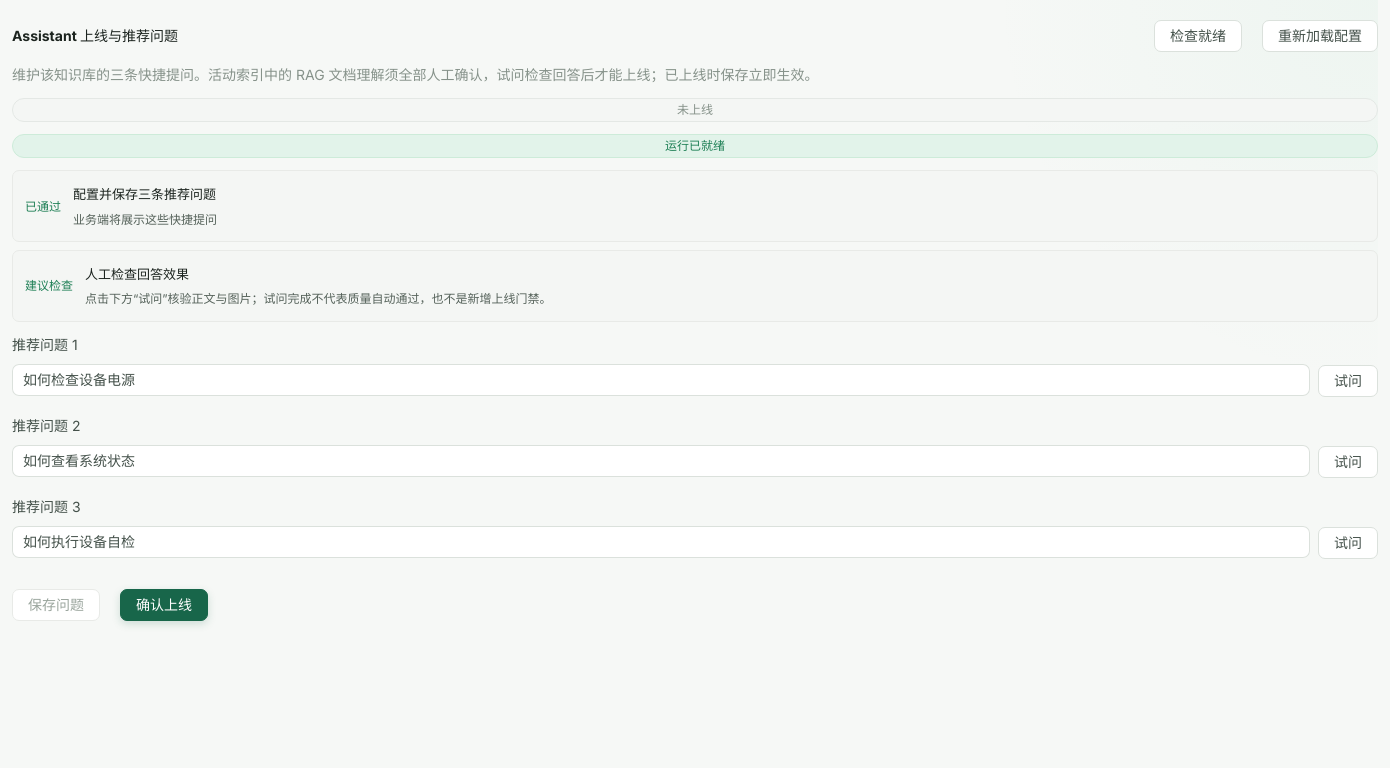
Test: knowledge Assistant settings › starts each trial without old conversation context and aborts when closed
What coordinates should you click on to do the following:
click the 1st button "试问"
I would click on:
 (1348, 381)
Its box is x1=1318 y1=365 x2=1378 y2=397.
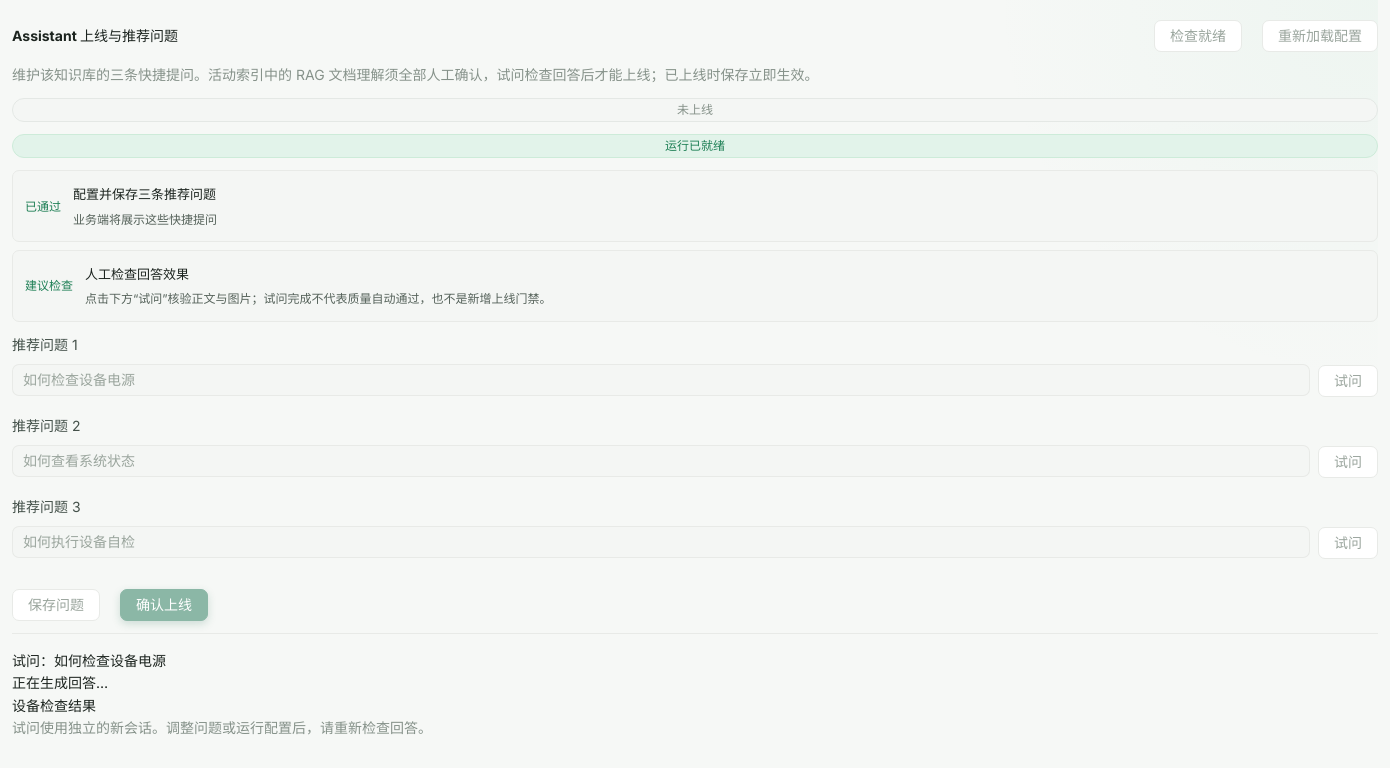
Expected: the text "设备检查结果" is shown, x1=12 y1=697 x2=96 y2=714
